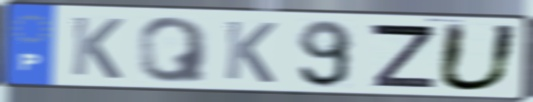9: (296, 17, 356, 90)
K: (68, 14, 126, 82), (222, 18, 279, 86)
Q: (137, 15, 212, 85)
U: (432, 20, 524, 94)
Z: (367, 21, 439, 90)
